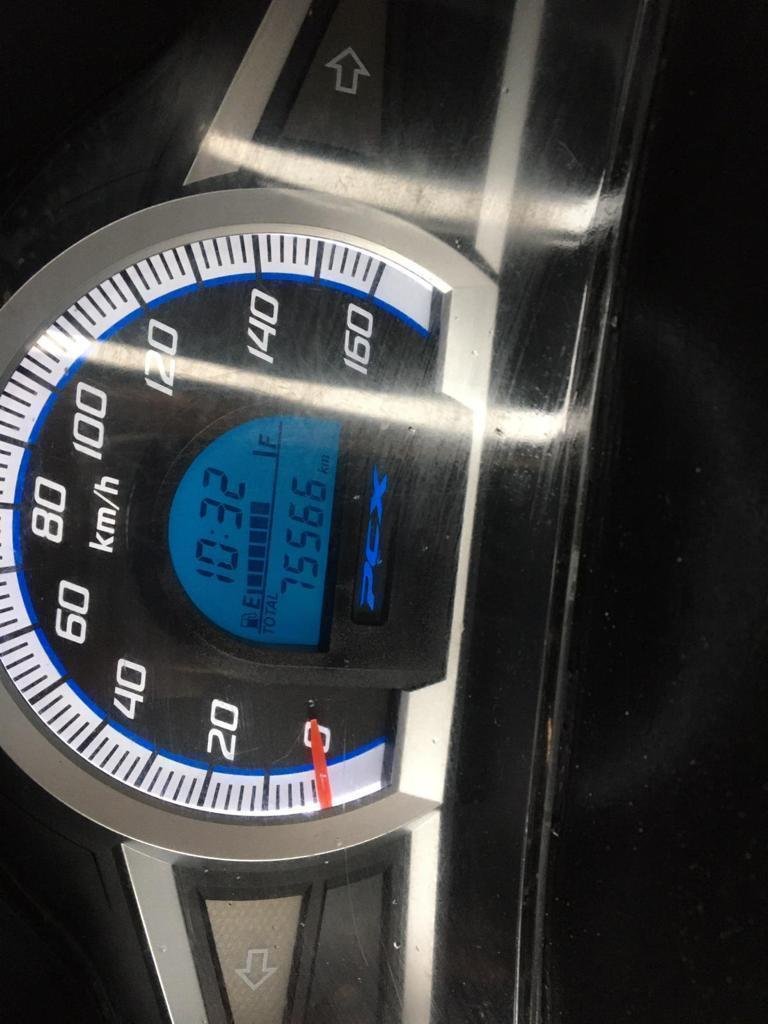0: (192, 539, 240, 568)
1: (190, 568, 237, 585)
2: (199, 467, 246, 495)
3: (195, 498, 244, 526)
5: (281, 553, 322, 575), (282, 528, 321, 551)
6: (286, 501, 324, 525), (289, 476, 327, 499)
7: (279, 576, 317, 594)
X: (256, 432, 277, 449), (240, 594, 260, 610), (208, 528, 231, 539), (262, 616, 277, 625), (319, 454, 330, 465), (315, 466, 330, 474), (262, 625, 274, 634), (265, 591, 278, 599), (263, 607, 275, 615), (266, 600, 278, 608)
odometer: (156, 403, 350, 661)
